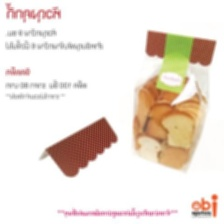snack: (125, 23, 222, 177)
